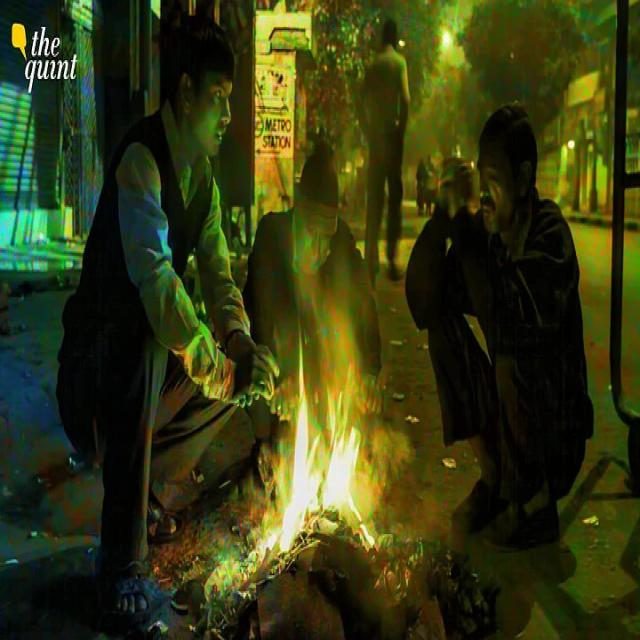fire: (280, 319, 323, 552), (324, 385, 362, 522)
